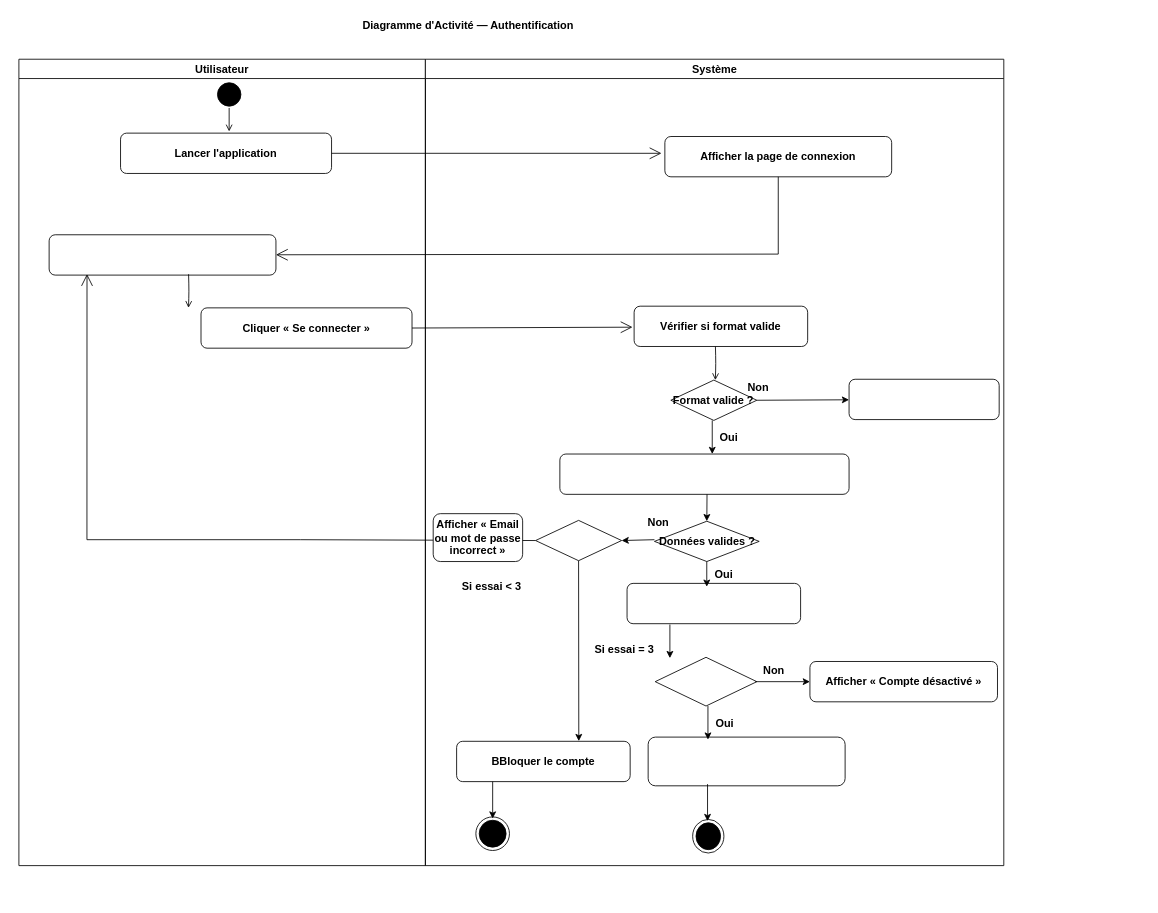
This 1158x913 diagram has some shape labels left out. The shapes that lost their labels are listed below. From the top down, each one's box as (x1, y1, x2, y2) in pixels, then its label:
(48, 234, 276, 275): Saisir email + mot de passe
(848, 378, 999, 420): Afficher message d'erreur de validation (frontend)
(559, 453, 849, 494): Vérifier si données saisies conformes à celles de la base de données
(626, 583, 801, 624): Vérifier si compte activé
(654, 656, 757, 706): Réponse serveur ?
(647, 736, 845, 786): Rediriger vers le dashboard selon le rôle
